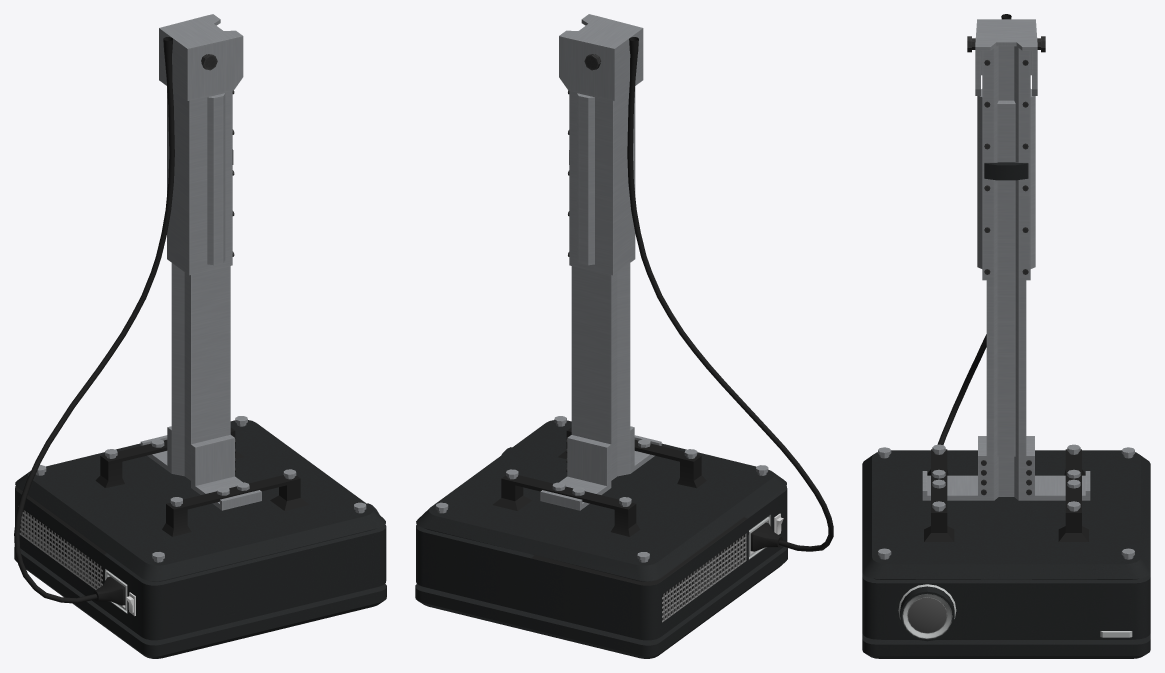
The model's file is projector.glb.
The picture shows the model from 3 angles, left to right: view 1: azimuth 30°, elevation 25°; view 2: azimuth 150°, elevation 25°; view 3: azimuth 270°, elevation 25°; orthographic projection. The views are drawn at different scales.
Parts seen in each view (by area): view 1: base_low, stand_low, wire_low, wireframe_low, screws_low; view 2: base_low, stand_low, wire_low, wireframe_low, screws_low; view 3: base_low, stand_low, screws_low, wire_low.
Boxes of the visible parts, x1=… form: base_low: x1=14, y1=420, x2=386, y2=658; stand_low: x1=95, y1=14, x2=309, y2=536; wire_low: x1=14, y1=37, x2=174, y2=603; wireframe_low: x1=18, y1=506, x2=102, y2=589; screws_low: x1=36, y1=54, x2=366, y2=562; base_low: x1=415, y1=420, x2=787, y2=658; stand_low: x1=493, y1=14, x2=706, y2=536; wire_low: x1=627, y1=37, x2=833, y2=551; wireframe_low: x1=662, y1=533, x2=746, y2=622; screws_low: x1=435, y1=54, x2=768, y2=562; base_low: x1=862, y1=450, x2=1150, y2=658; stand_low: x1=922, y1=19, x2=1090, y2=541; screws_low: x1=878, y1=36, x2=1134, y2=559; wire_low: x1=937, y1=14, x2=1011, y2=444.
Bounding box in the file's own units: 2.81 × 4.36 × 2.
Materials: 2 (1 with a texture image).
